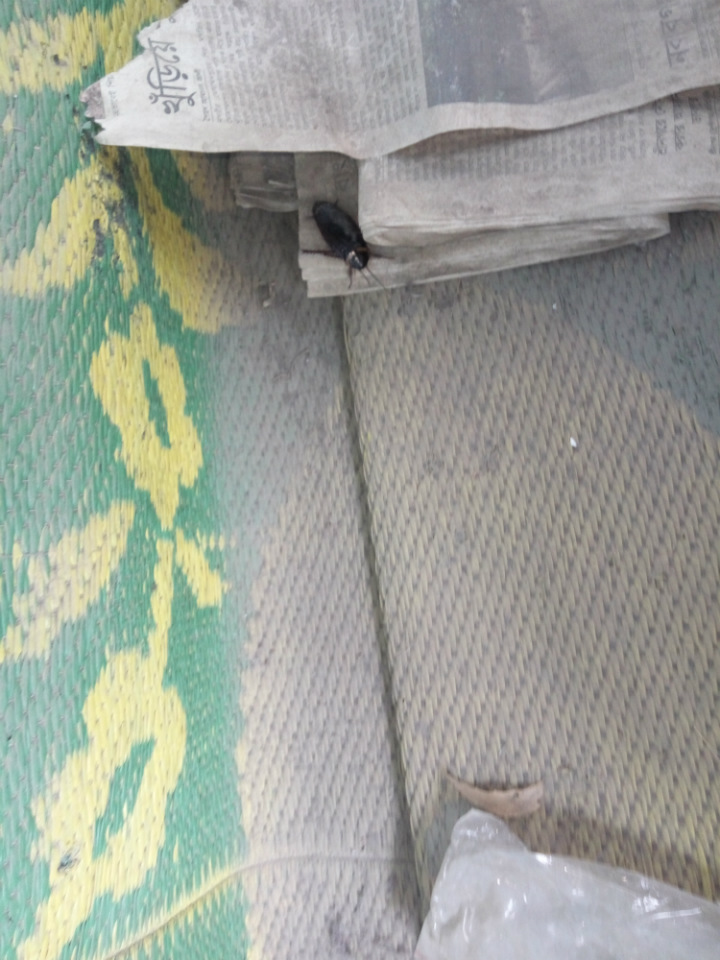cockroach: (256, 199, 397, 297)
